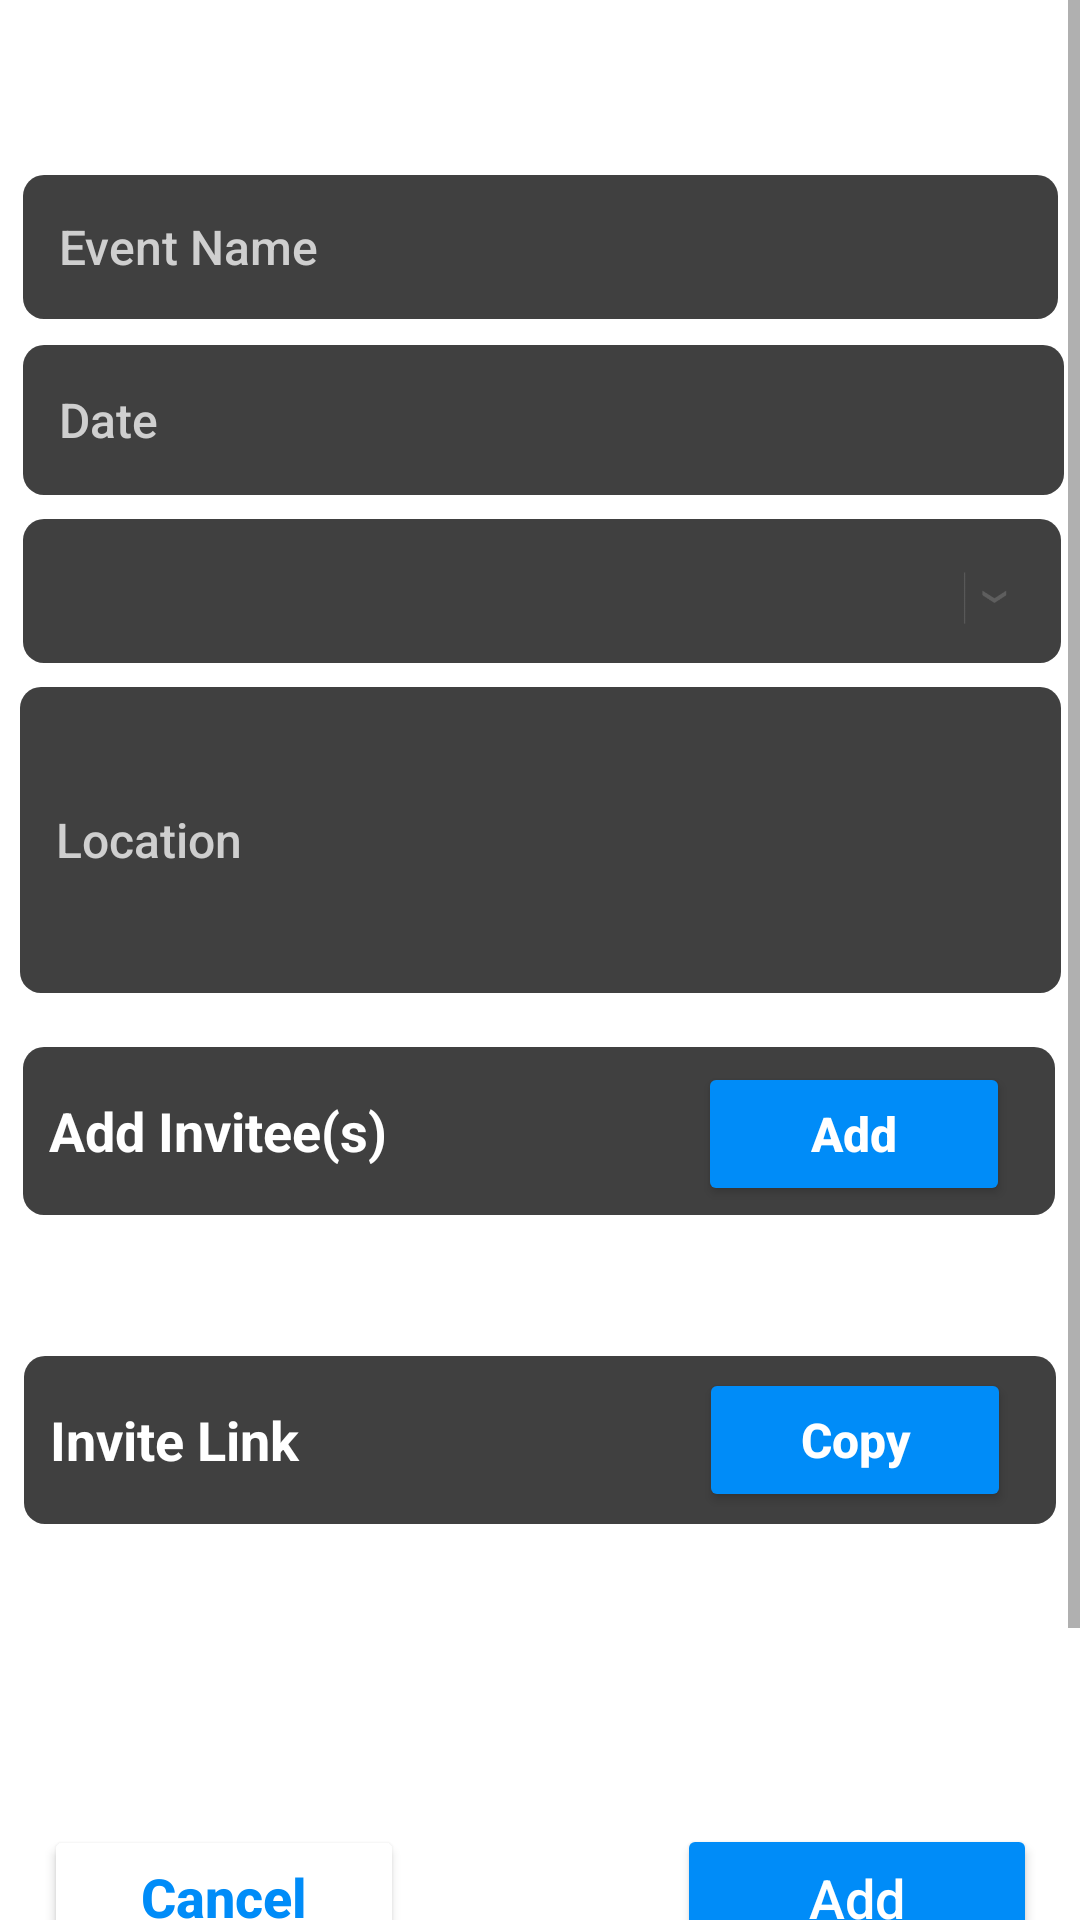

Where to tap for icons on this 1080×1920 app screen, as (x=x, y=y):
dropdown: (x=984, y=590)
